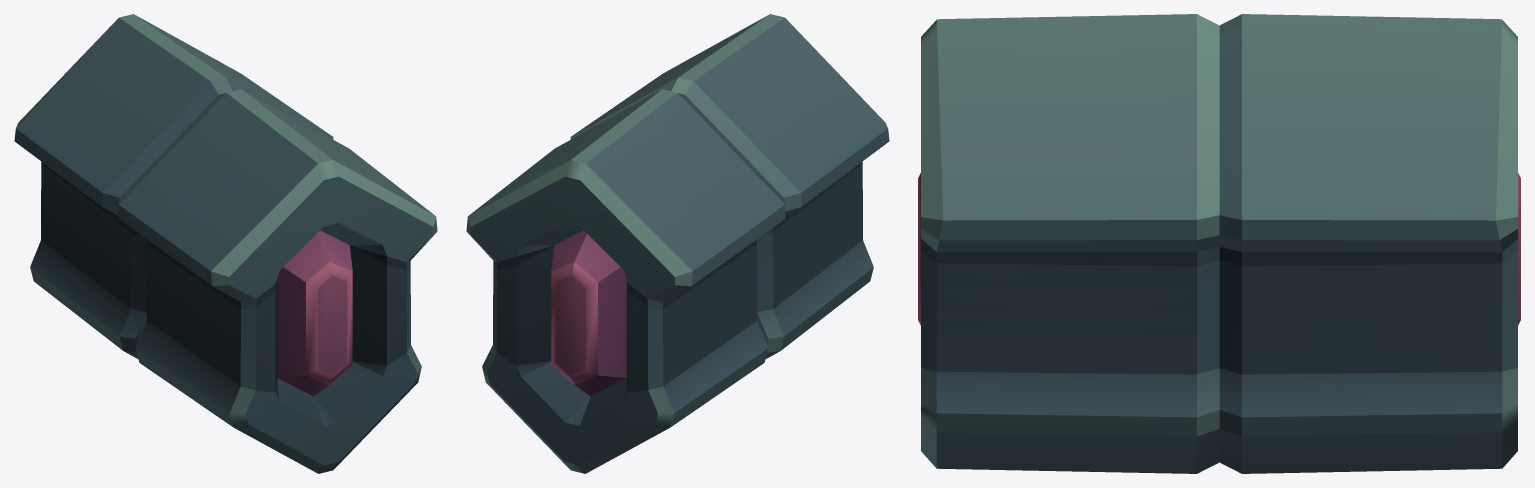
The model's file is ornament_2.fbx.
The picture shows the model from 3 angles, left to right: view 1: azimuth 30°, elevation 25°; view 2: azimuth 150°, elevation 25°; view 3: azimuth 270°, elevation 25°; orthographic projection. The views are drawn at different scales.
Visible parts, largest first — view 1: ornament_2; view 2: ornament_2; view 3: ornament_2.
Boxes of the visible parts, bbox=[...] form: ornament_2: bbox=[14, 14, 437, 473]; ornament_2: bbox=[466, 14, 889, 473]; ornament_2: bbox=[918, 14, 1520, 473].
Bounding box in the file's own units: 137 × 181 × 220.
